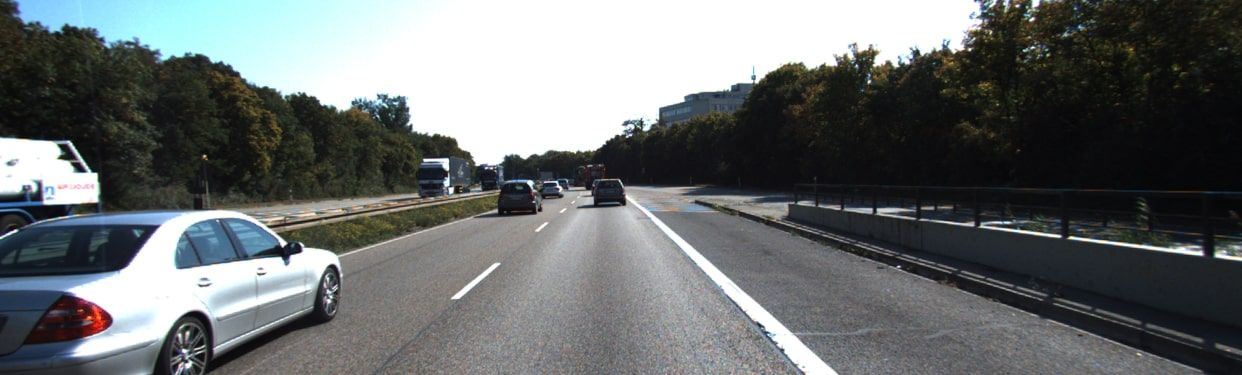car: (24, 219, 363, 350), (414, 153, 474, 197), (494, 177, 545, 216), (585, 177, 630, 210), (540, 178, 564, 199)
